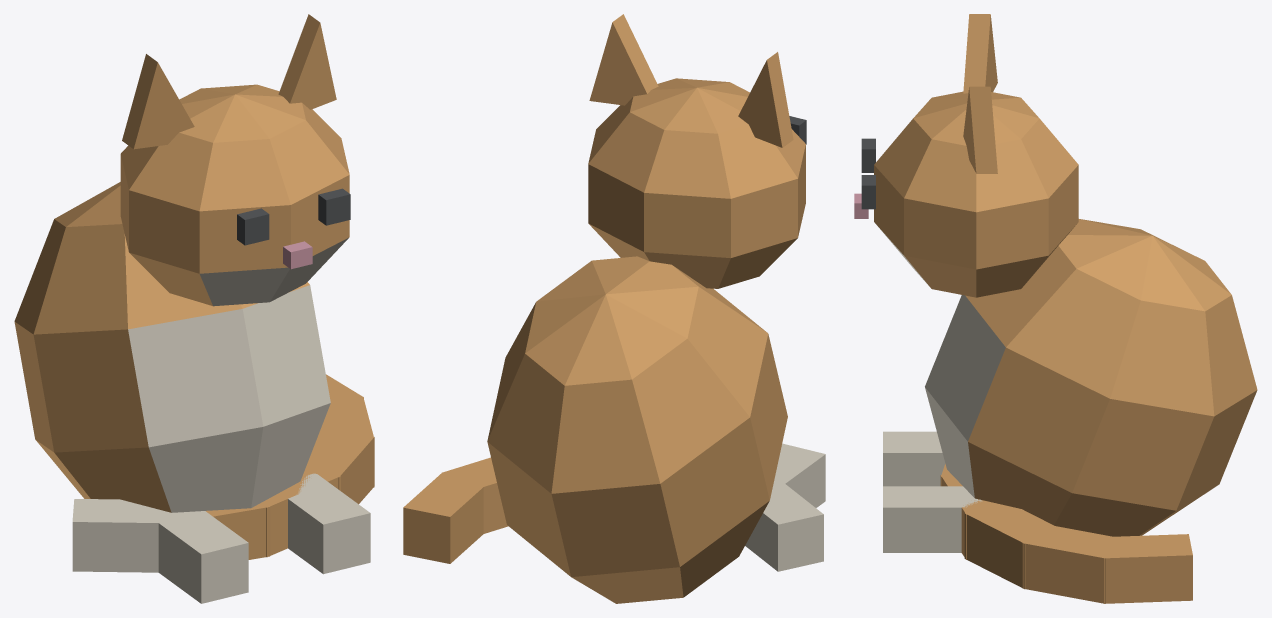
Rendered from rail_cat.glb.
3 renders of one model, left to right at view 1: azimuth 30°, elevation 25°; view 2: azimuth 150°, elevation 25°; view 3: azimuth 270°, elevation 25°, orthographic. The views are drawn at different scales.
Bounding box in the file's own units: 0.2559 × 0.3782 × 0.281.
